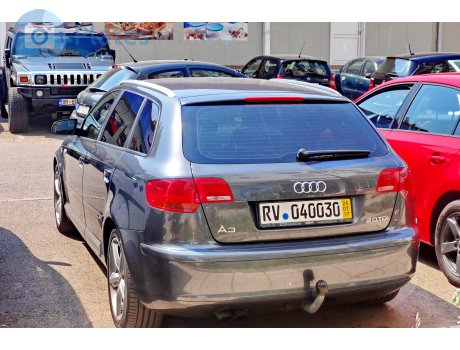License Plates: (260, 196, 344, 218)
